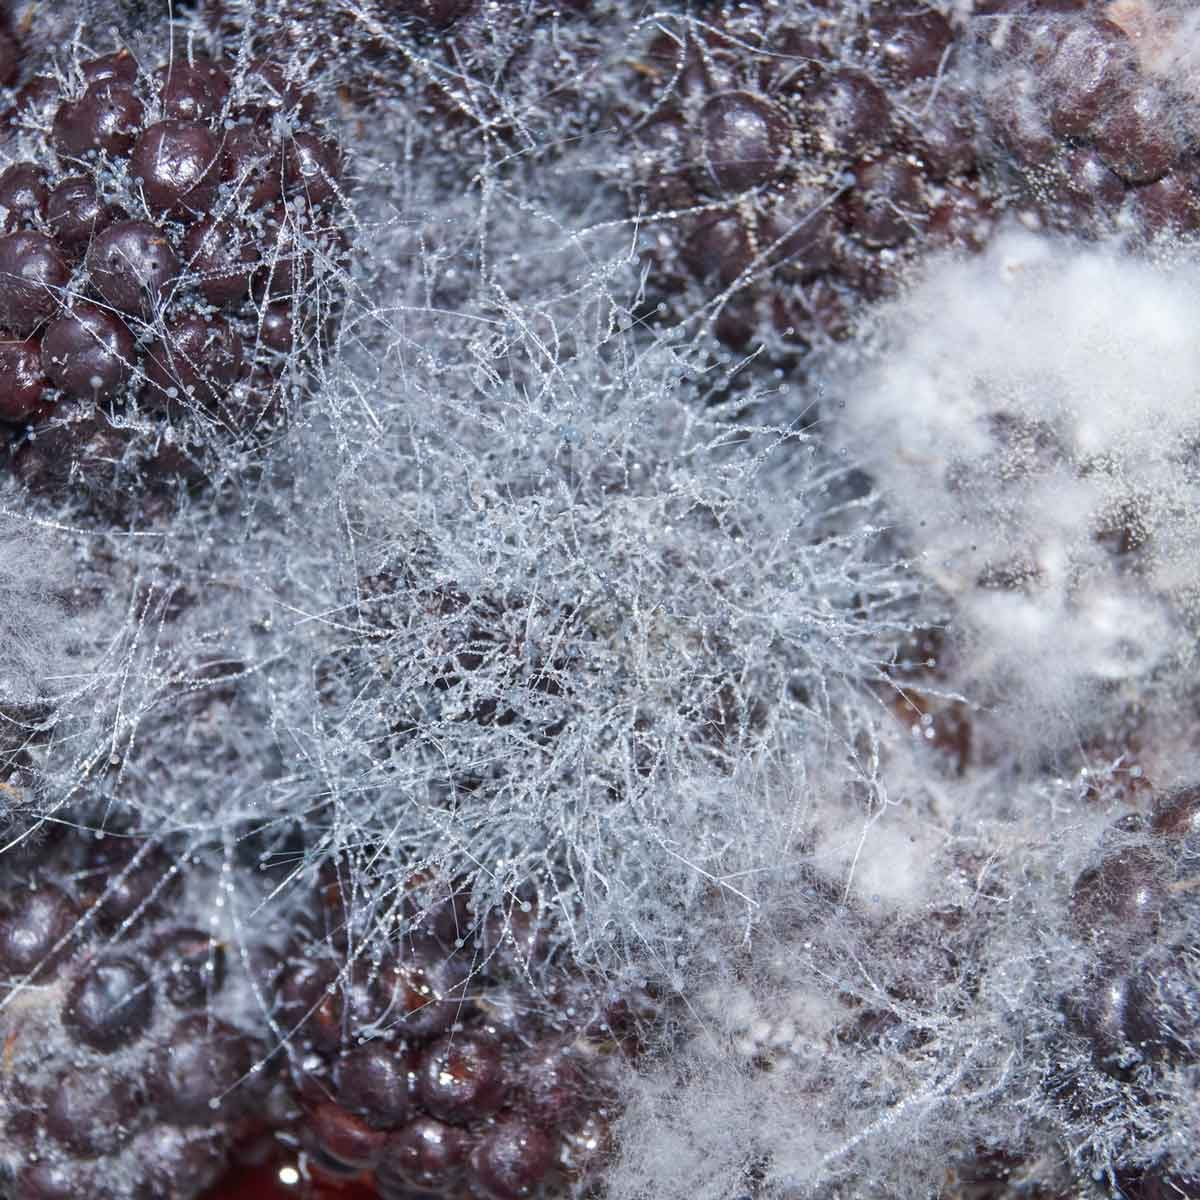Mucor: (245, 184, 705, 702), (93, 695, 716, 1014), (837, 204, 1200, 514), (949, 787, 1200, 1180)
